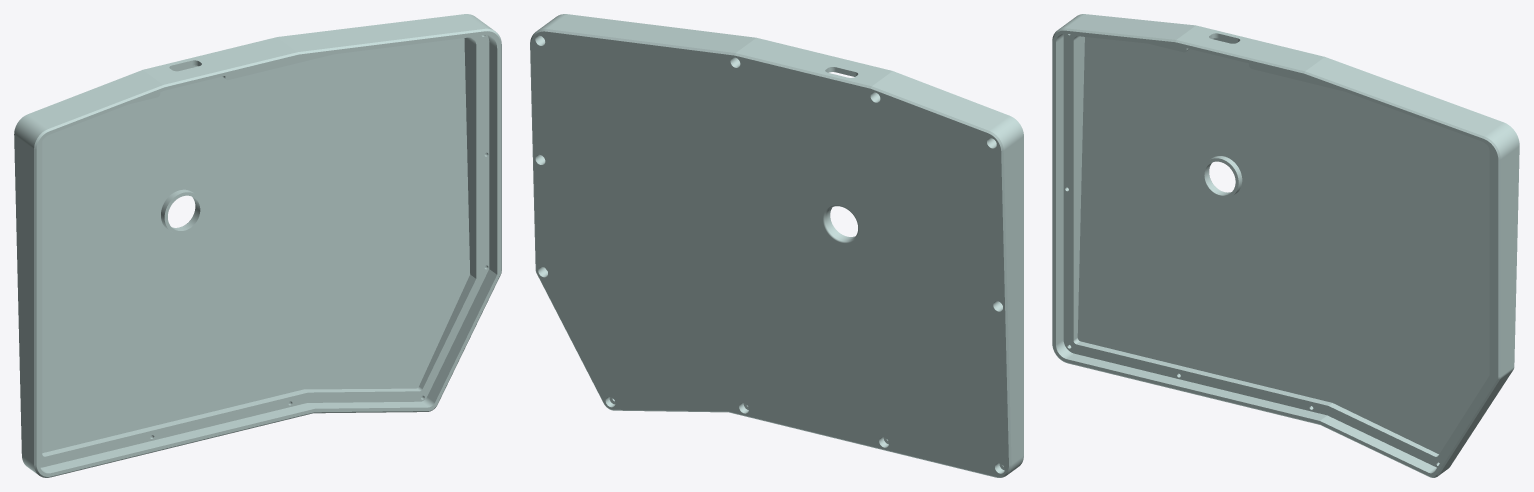
File: Takmak - Left Universal Bottom.glb
3 renders of one model, left to right at view 1: azimuth 30°, elevation 25°; view 2: azimuth 150°, elevation 25°; view 3: azimuth 330°, elevation 25°, orthographic. The views are drawn at different scales.
Visible parts, largest first — view 1: Left Universal Bottom; view 2: Left Universal Bottom; view 3: Left Universal Bottom.
Boxes of the visible parts, x1,y1,x2,y2 form: Left Universal Bottom: (14,14,501,477); Left Universal Bottom: (530,14,1023,477); Left Universal Bottom: (1052,14,1519,477).
Size of the model in its own units: 0.1442 by 0.1154 by 0.012.
